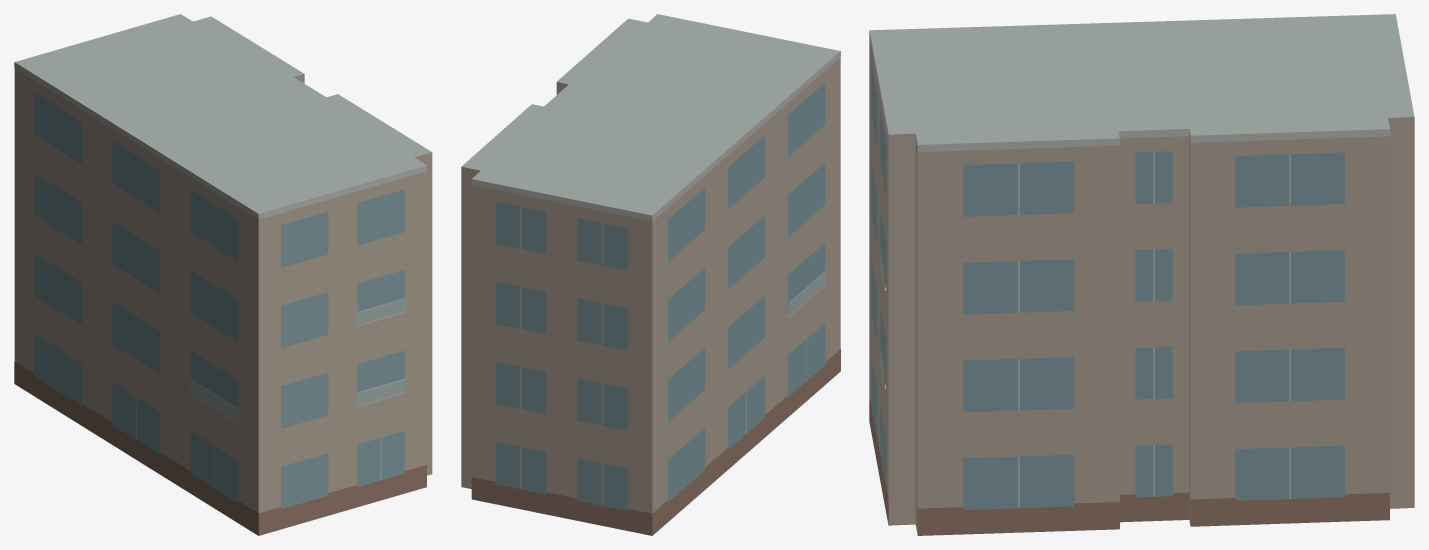
File: survey-upis-32620784.glb
The picture shows the model from 3 angles, left to right: view 1: azimuth 30°, elevation 25°; view 2: azimuth 150°, elevation 25°; view 3: azimuth 270°, elevation 25°; orthographic projection. The views are drawn at different scales.
Parts seen in each view (by area): view 1: survey-upis-32620784.tmp; view 2: survey-upis-32620784.tmp; view 3: survey-upis-32620784.tmp.
Part boxes in pixels (x1,y1,x2,y2): survey-upis-32620784.tmp: (14, 14, 432, 535); survey-upis-32620784.tmp: (461, 14, 840, 535); survey-upis-32620784.tmp: (869, 14, 1414, 535).
Bounding box in the file's own units: 9.49 × 13.2 × 16.69.
